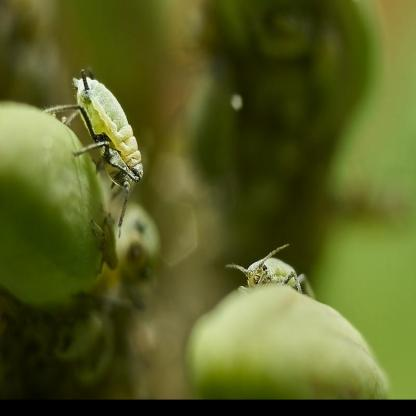aphid: (59, 57, 146, 209), (225, 237, 312, 301), (87, 209, 123, 280)
